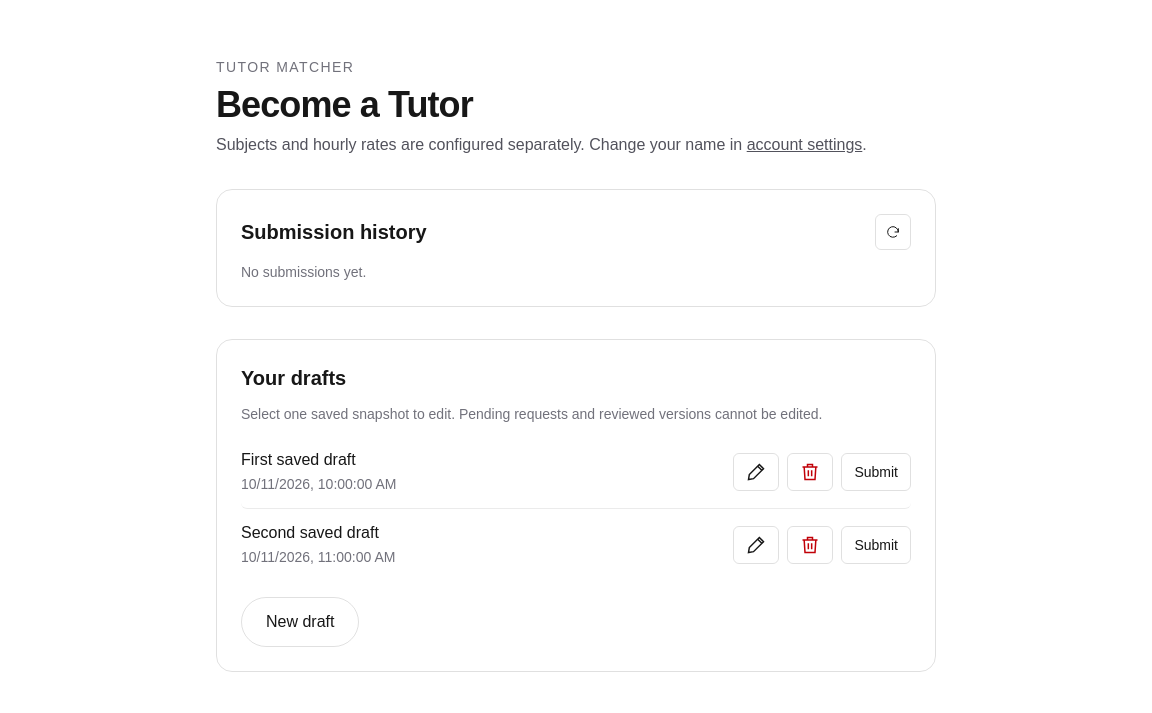
Test: saves current edits before submitting the selected draft ID
Click the button named "Edit draft 2: Second saved draft" at [756, 545], box [733,526,779,564]
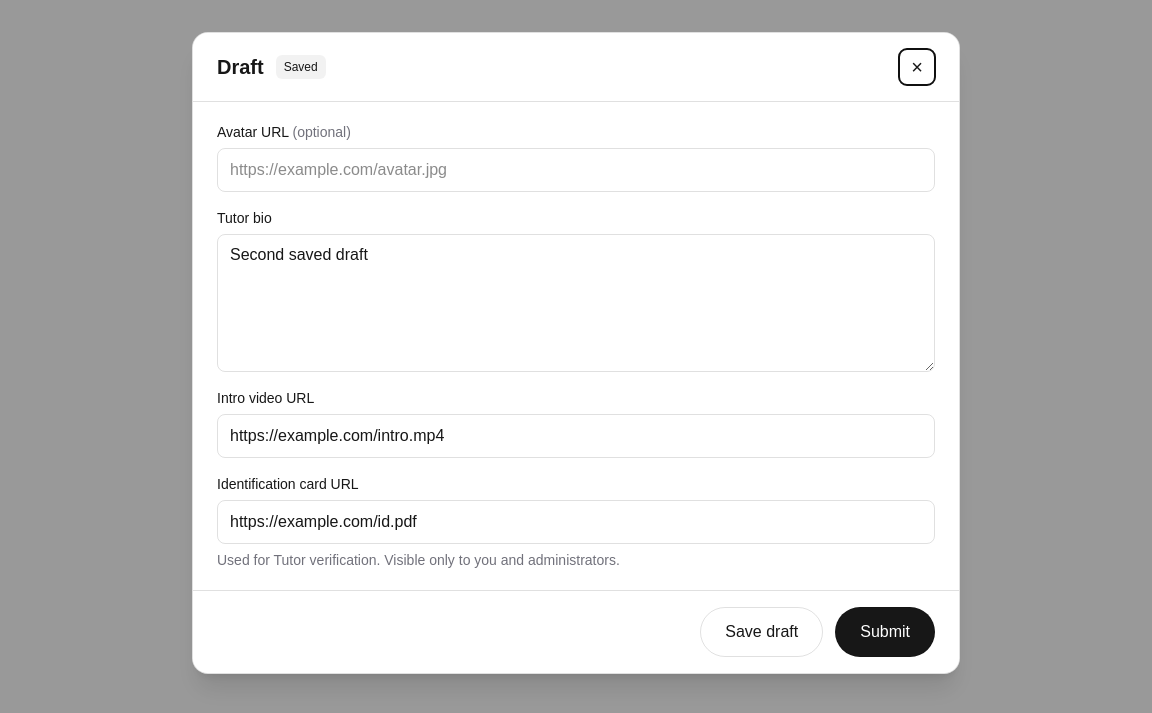
Replace the text in the text box labelled "Tutor bio" with "Latest local changes" at [576, 303], box [217,234,935,372]
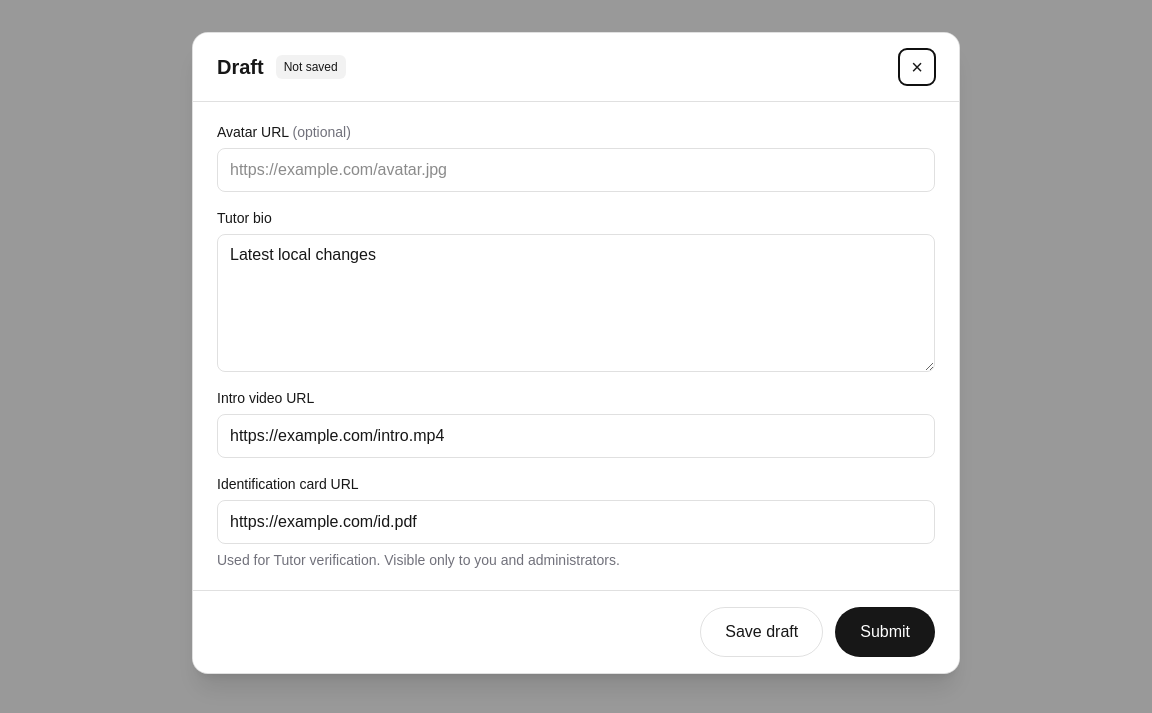
Click the button "Submit" at [885, 632], box [835,607,935,657]
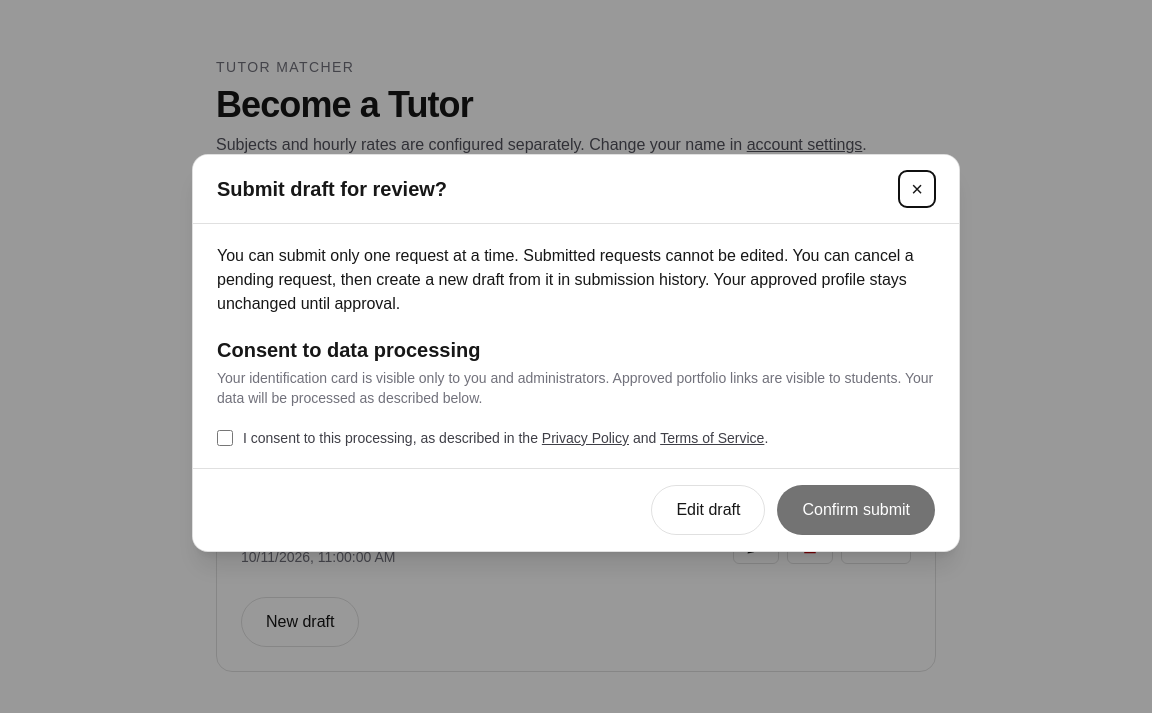
Click the checkbox at [225, 438], box [217,430,233,446]
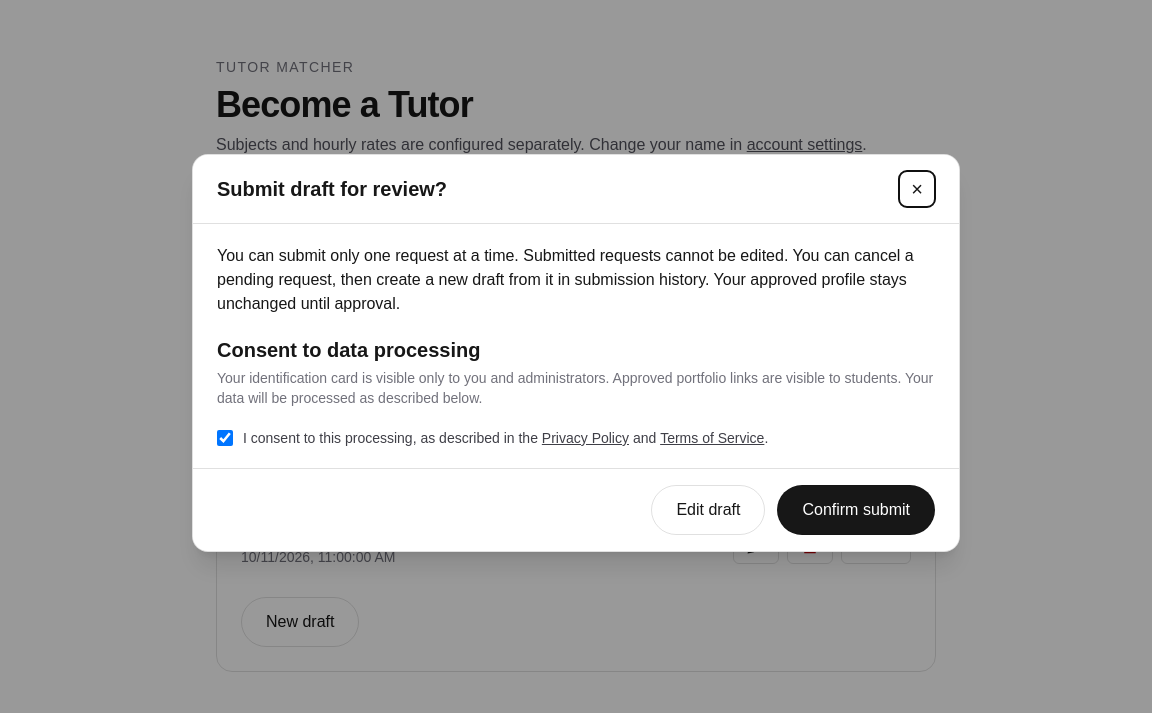
Click the button "Confirm submit" at [856, 510], box [777,485,935,535]
(page scrolled)
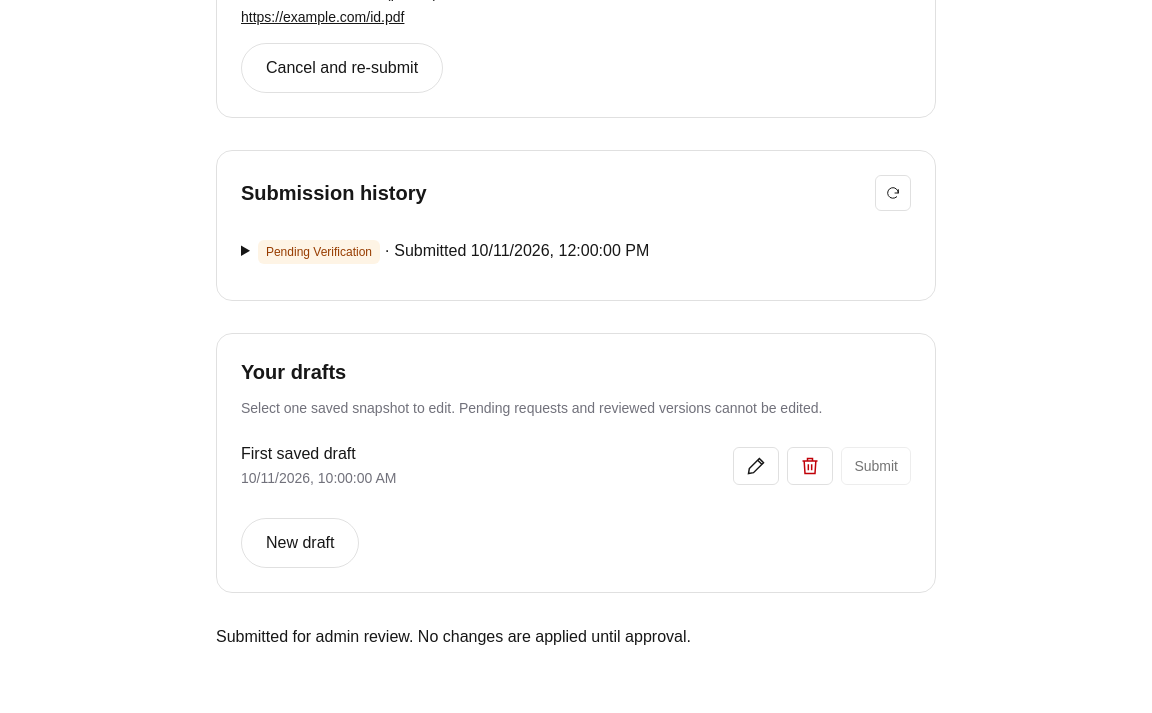
Expected: the button named "Edit draft 1: First saved draft" is shown, [733,447,779,485]
Result: the text "Pending Verification" is shown at [258,240,380,264]
